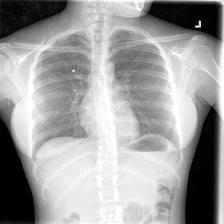normal: (24, 24, 184, 164)
